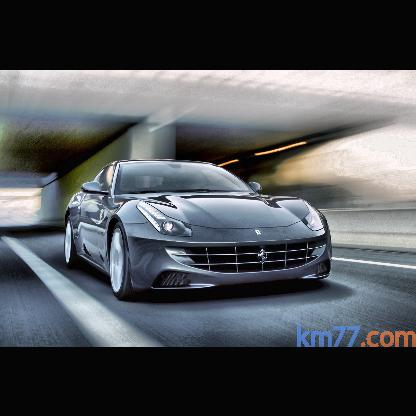Ferrari FF Coupe 2012: (64, 158, 334, 302)
